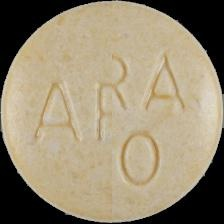50436-3800: (0, 0, 224, 224)
